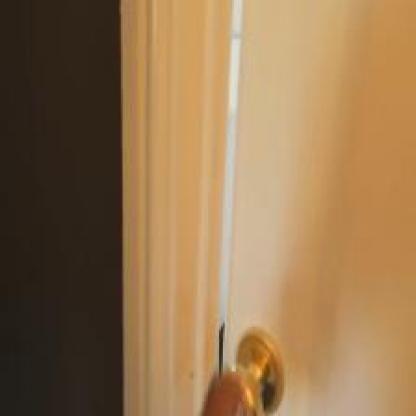other: (195, 316, 280, 408)
